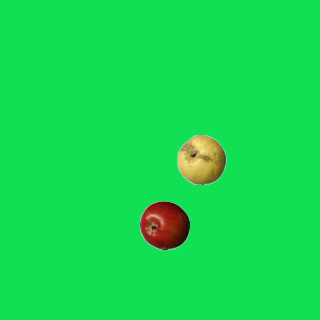Apple Braeburn: (139, 200, 189, 250)
Apple Golden 1: (176, 134, 226, 184)
